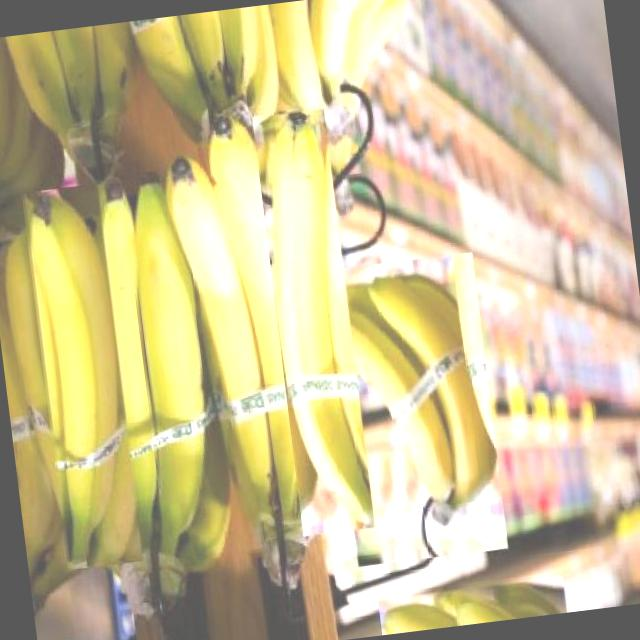Banana: (159, 129, 339, 597), (87, 175, 246, 616), (0, 173, 145, 612), (322, 250, 508, 566), (0, 21, 146, 191), (138, 3, 288, 140), (376, 570, 564, 635)
